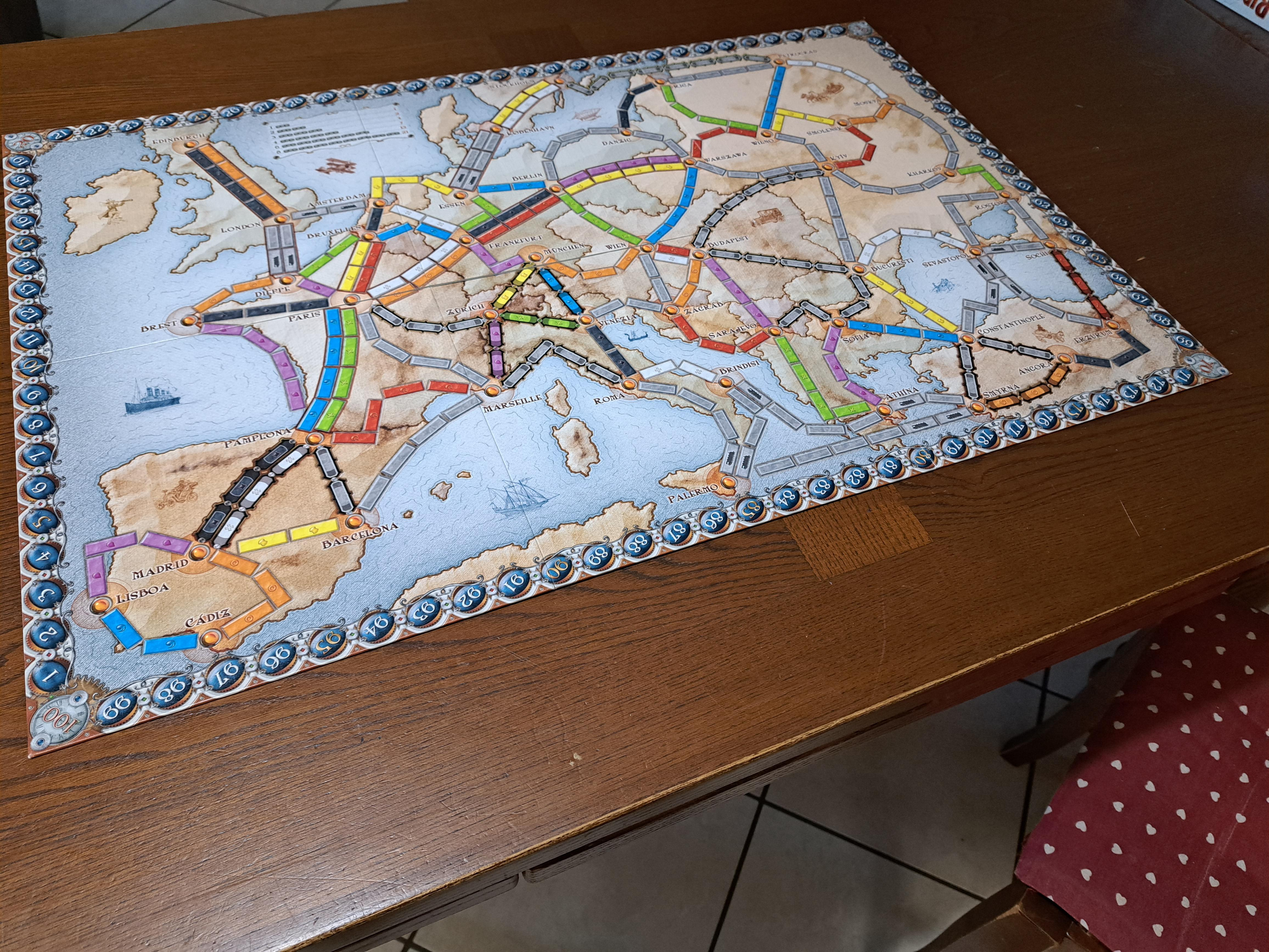corner_bl: (28, 686, 99, 757)
corner_br: (1179, 347, 1231, 382)
corner_tl: (3, 130, 45, 152)
corner_tr: (845, 20, 877, 36)
